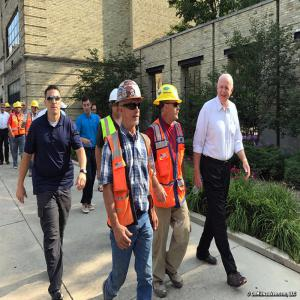none: (45, 86, 62, 117), (217, 73, 235, 102), (82, 97, 92, 113), (92, 105, 98, 115), (22, 102, 28, 112), (2, 104, 7, 114)
red: (117, 78, 143, 130)
white: (111, 89, 121, 118)
yellow: (157, 84, 182, 122), (32, 102, 40, 115), (16, 102, 22, 113), (5, 103, 11, 112)
